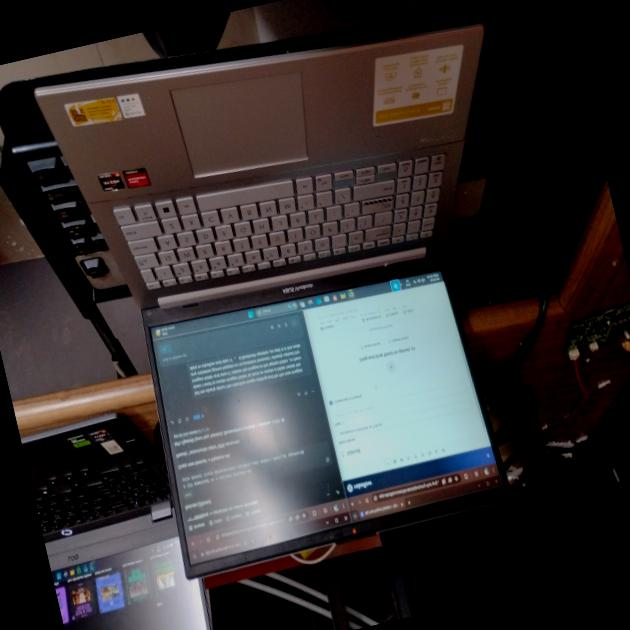laptop: (22, 0, 610, 616)
